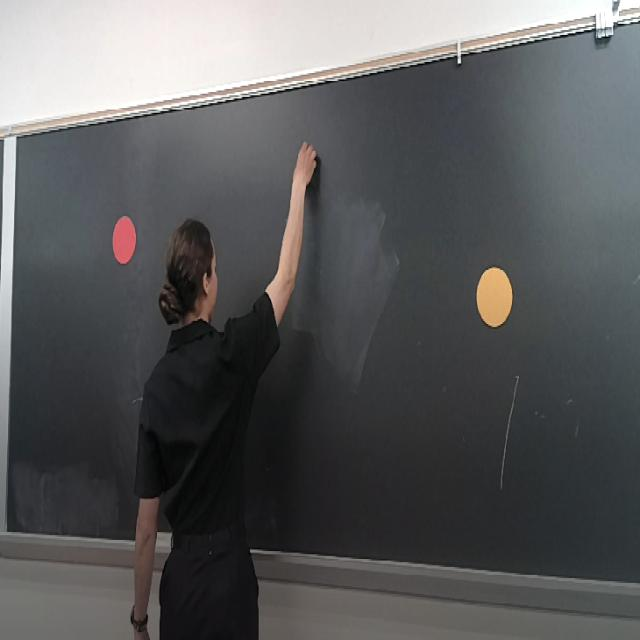Orange: (477, 268, 512, 327)
Red: (112, 216, 137, 264)
